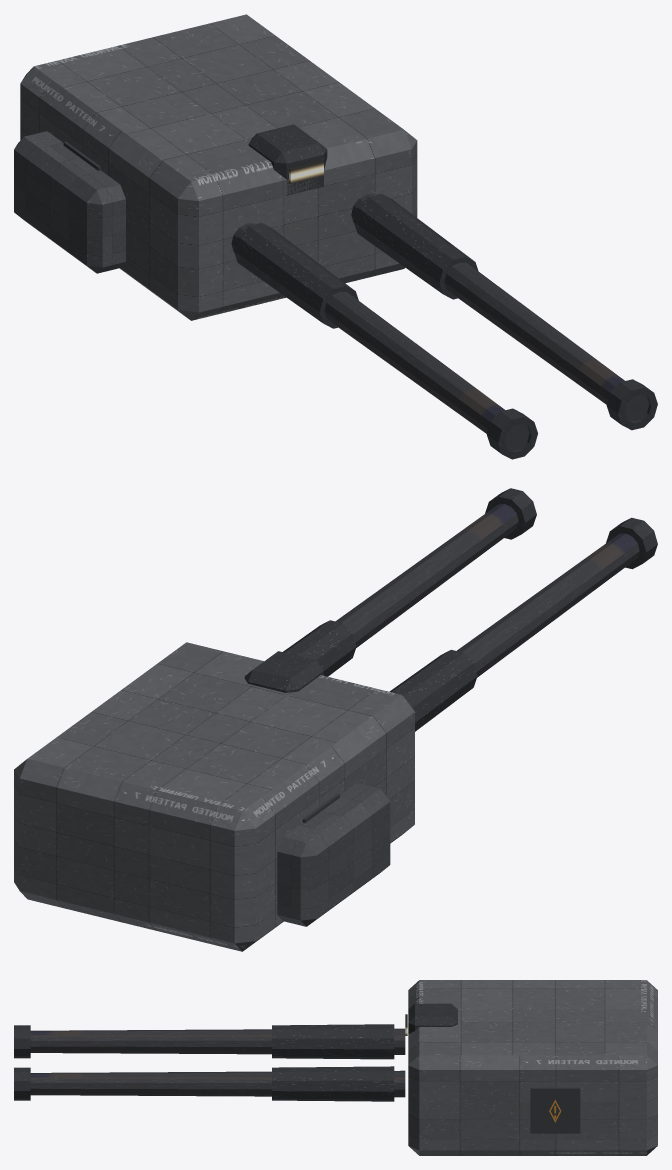
The model's file is veh_aegis_pdw_head.obj.
The picture shows the model from 3 angles, top to bottom: view 1: azimuth 30°, elevation 25°; view 2: azimuth 150°, elevation 25°; view 3: azimuth 270°, elevation 25°; orthographic projection. The views are drawn at different scales.
Parts seen in each view (by area): view 1: veh_aegis_pdw_head; view 2: veh_aegis_pdw_head; view 3: veh_aegis_pdw_head.
Boxes of the visible parts, bbox=[...] form: veh_aegis_pdw_head: bbox=[14, 14, 657, 459]; veh_aegis_pdw_head: bbox=[14, 488, 657, 951]; veh_aegis_pdw_head: bbox=[14, 980, 657, 1155].
Size of the model in its own units: 0.414 by 0.215 by 1.16.
1 material, 1 textured.
